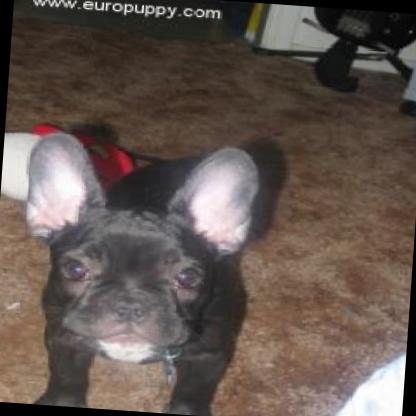French_bulldog: (9, 126, 263, 416)
